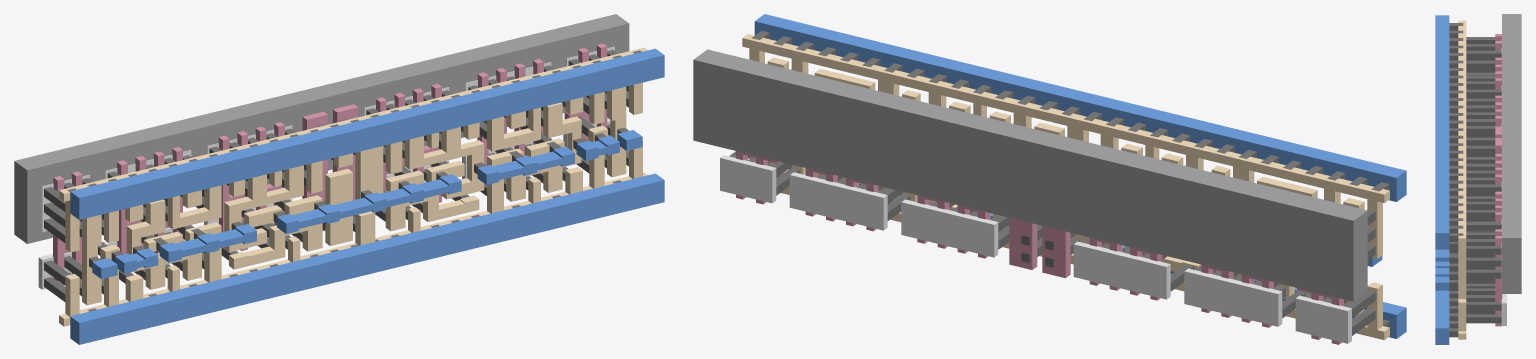
Rendered from sky130_fd_sc_hd__macro_sparecell.gds.gltf.
The picture shows the model from 3 angles, left to right: view 1: azimuth 30°, elevation 25°; view 2: azimuth 150°, elevation 25°; view 3: azimuth 270°, elevation 25°; orthographic projection. The views are drawn at different scales.
Parts seen in each view (by area): view 1: sky130_fd_sc_hd__nand2_2_li1 (×2), sky130_fd_sc_hd__nor2_2_li1 (×2), sky130_fd_sc_hd__nand2_2_met1 (×2), sky130_fd_sc_hd__nor2_2_met1 (×2), sky130_fd_sc_hd__macro_sparecell_met1, sky130_fd_sc_hd__inv_2_met1 (×2), sky130_fd_sc_hd__inv_2_li1 (×2), sky130_fd_sc_hd__nor2_2_nwell (×2), sky130_fd_sc_hd__inv_2_nwell (×2), sky130_fd_sc_hd__nand2_2_nwell (×2), sky130_fd_sc_hd__conb_1_li1, sky130_fd_sc_hd__conb_1_met1 (+10 smaller); view 2: sky130_fd_sc_hd__nor2_2_nwell (×2), sky130_fd_sc_hd__nand2_2_nwell (×2), sky130_fd_sc_hd__inv_2_nwell (×2), sky130_fd_sc_hd__conb_1_nwell, sky130_fd_sc_hd__nor2_2_diff (×2), sky130_fd_sc_hd__nand2_2_diff (×2), sky130_fd_sc_hd__nand2_2_li1 (×2), sky130_fd_sc_hd__nor2_2_li1 (×2), sky130_fd_sc_hd__nand2_2_met1 (×2), sky130_fd_sc_hd__nor2_2_met1 (×2), sky130_fd_sc_hd__inv_2_li1 (×2), sky130_fd_sc_hd__inv_2_diff (×2) (+12 smaller); view 3: sky130_fd_sc_hd__inv_2_licon (×2), sky130_fd_sc_hd__nor2_2_licon (×2), sky130_fd_sc_hd__nand2_2_licon (×2), sky130_fd_sc_hd__inv_2_nwell (×2), sky130_fd_sc_hd__nand2_2_nwell (×2), sky130_fd_sc_hd__inv_2_met1 (×2), sky130_fd_sc_hd__nor2_2_nwell (×2), sky130_fd_sc_hd__nor2_2_met1 (×2), sky130_fd_sc_hd__inv_2_li1 (×2), sky130_fd_sc_hd__nor2_2_mcon (×2), sky130_fd_sc_hd__nand2_2_met1 (×2), sky130_fd_sc_hd__nand2_2_mcon (×2) (+15 smaller).
Boxes of the visible parts, left/top/right/bottom form: sky130_fd_sc_hd__nand2_2_li1 (×2): left=221, top=87, right=486, bottom=278; sky130_fd_sc_hd__nor2_2_li1 (×2): left=120, top=62, right=586, bottom=303; sky130_fd_sc_hd__nand2_2_met1 (×2): left=232, top=88, right=503, bottom=305; sky130_fd_sc_hd__nor2_2_met1 (×2): left=131, top=63, right=603, bottom=329; sky130_fd_sc_hd__macro_sparecell_met1: left=92, top=130, right=642, bottom=278; sky130_fd_sc_hd__inv_2_met1 (×2): left=70, top=48, right=664, bottom=344; sky130_fd_sc_hd__inv_2_li1 (×2): left=59, top=47, right=647, bottom=326; sky130_fd_sc_hd__nor2_2_nwell (×2): left=75, top=29, right=568, bottom=206; sky130_fd_sc_hd__inv_2_nwell (×2): left=14, top=14, right=629, bottom=243; sky130_fd_sc_hd__nand2_2_nwell (×2): left=176, top=53, right=467, bottom=197; sky130_fd_sc_hd__conb_1_li1: left=322, top=111, right=385, bottom=253; sky130_fd_sc_hd__conb_1_met1: left=333, top=112, right=402, bottom=280; sky130_fd_sc_hd__nor2_2_nwell (×2): left=759, top=65, right=1300, bottom=285; sky130_fd_sc_hd__nand2_2_nwell (×2): left=870, top=97, right=1190, bottom=258; sky130_fd_sc_hd__inv_2_nwell (×2): left=693, top=49, right=1367, bottom=301; sky130_fd_sc_hd__conb_1_nwell: left=981, top=119, right=1079, bottom=231; sky130_fd_sc_hd__nor2_2_diff (×2): left=789, top=172, right=1282, bottom=326; sky130_fd_sc_hd__nand2_2_diff (×2): left=901, top=199, right=1170, bottom=299; sky130_fd_sc_hd__nand2_2_li1 (×2): left=919, top=77, right=1212, bottom=291; sky130_fd_sc_hd__nor2_2_li1 (×2): left=808, top=50, right=1323, bottom=318; sky130_fd_sc_hd__nand2_2_met1 (×2): left=931, top=57, right=1228, bottom=274; sky130_fd_sc_hd__nor2_2_met1 (×2): left=821, top=30, right=1339, bottom=301; sky130_fd_sc_hd__inv_2_li1 (×2): left=742, top=34, right=1389, bottom=340; sky130_fd_sc_hd__inv_2_diff (×2): left=720, top=155, right=1351, bottom=343; sky130_fd_sc_hd__inv_2_licon (×2): left=1466, top=37, right=1501, bottom=323; sky130_fd_sc_hd__nor2_2_licon (×2): left=1466, top=60, right=1501, bottom=288; sky130_fd_sc_hd__nand2_2_licon (×2): left=1466, top=98, right=1501, bottom=196; sky130_fd_sc_hd__inv_2_nwell (×2): left=1502, top=14, right=1521, bottom=293; sky130_fd_sc_hd__nand2_2_nwell (×2): left=1502, top=74, right=1521, bottom=177; sky130_fd_sc_hd__inv_2_met1 (×2): left=1435, top=15, right=1449, bottom=344; sky130_fd_sc_hd__nor2_2_nwell (×2): left=1502, top=36, right=1521, bottom=213; sky130_fd_sc_hd__nor2_2_met1 (×2): left=1435, top=38, right=1449, bottom=305; sky130_fd_sc_hd__inv_2_li1 (×2): left=1458, top=20, right=1466, bottom=339; sky130_fd_sc_hd__nor2_2_mcon (×2): left=1449, top=45, right=1463, bottom=313; sky130_fd_sc_hd__nand2_2_met1 (×2): left=1435, top=75, right=1449, bottom=172; sky130_fd_sc_hd__nand2_2_mcon (×2): left=1449, top=83, right=1463, bottom=254.
Bounding box in the file's own units: 13.72 × 3.2 × 2.24.
